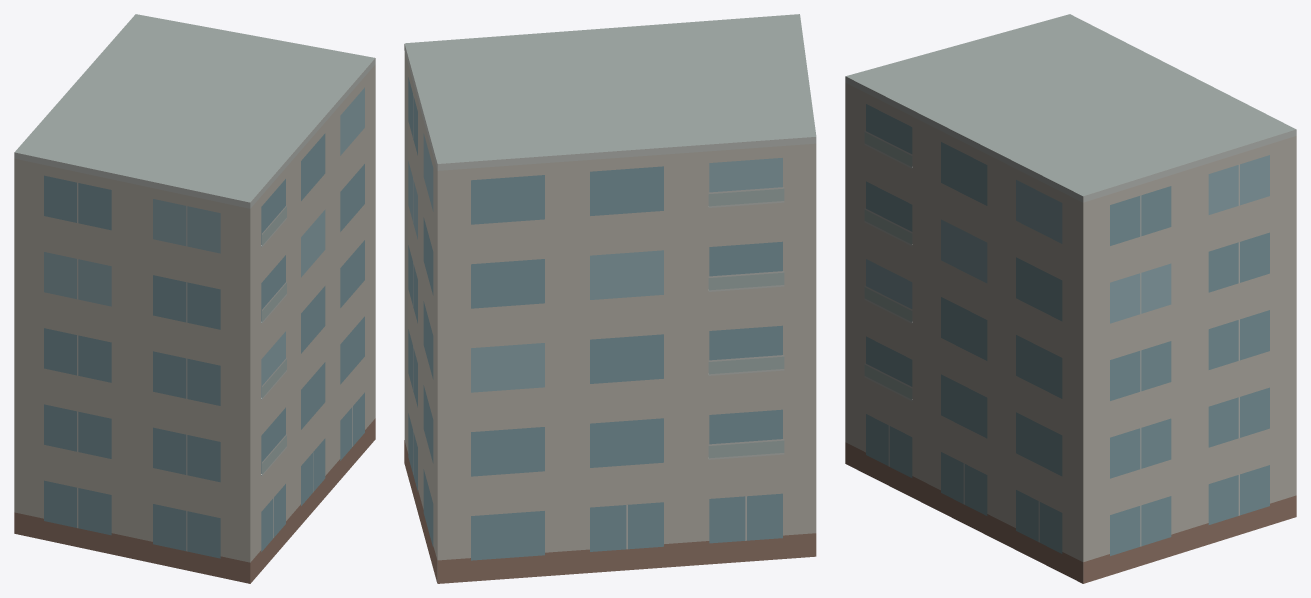
The model's file is survey-upis-33035026.glb.
3 renders of one model, left to right at view 1: azimuth 30°, elevation 25°; view 2: azimuth 150°, elevation 25°; view 3: azimuth 270°, elevation 25°, orthographic. The views are drawn at different scales.
Parts seen in each view (by area): view 1: survey-upis-33035026.tmp; view 2: survey-upis-33035026.tmp; view 3: survey-upis-33035026.tmp.
Boxes of the visible parts, x1,y1,x2,y2 form: survey-upis-33035026.tmp: [14, 14, 375, 583]; survey-upis-33035026.tmp: [404, 14, 816, 583]; survey-upis-33035026.tmp: [845, 14, 1296, 583].
Size of the model in its own units: 15.04 by 14.9 by 15.73.
